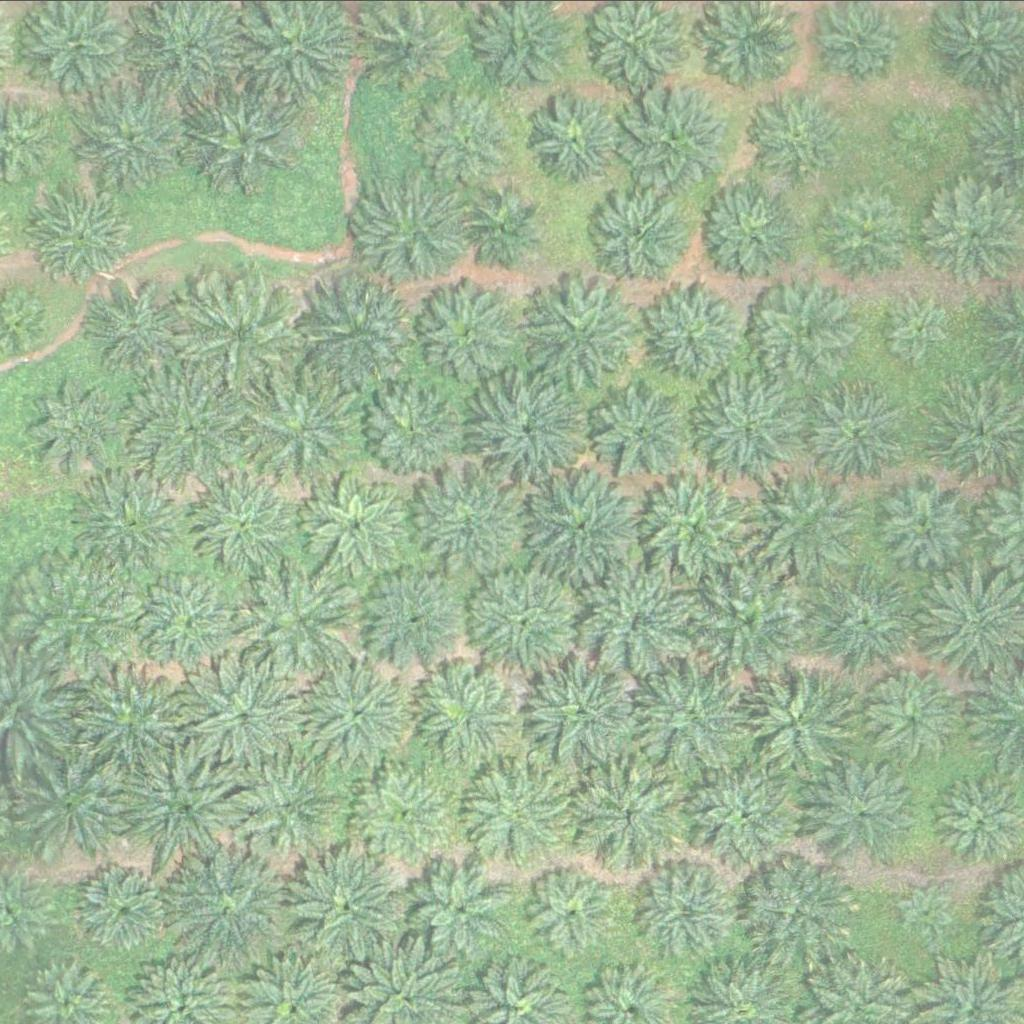Kelapa_Sawit: (20, 560, 134, 673), (183, 279, 297, 392), (357, 175, 471, 288), (617, 85, 731, 198), (811, 754, 925, 867), (174, 847, 287, 960), (292, 849, 405, 962), (464, 753, 577, 866), (573, 761, 686, 874), (74, 668, 187, 781), (136, 565, 249, 678), (243, 561, 356, 674), (357, 564, 470, 677), (411, 461, 524, 574), (521, 469, 634, 582), (696, 368, 809, 481), (642, 467, 755, 580), (641, 656, 754, 769), (740, 665, 853, 778), (692, 756, 805, 869), (68, 471, 182, 583), (183, 467, 297, 579), (135, 372, 249, 484), (243, 375, 357, 487), (296, 275, 410, 387), (411, 278, 525, 390), (746, 855, 860, 967), (23, 370, 136, 482), (17, 746, 130, 858), (132, 751, 245, 863), (234, 749, 347, 861), (193, 660, 306, 772), (304, 659, 417, 771), (528, 654, 641, 766), (471, 566, 584, 678), (583, 565, 696, 677), (464, 374, 577, 486), (529, 276, 642, 388), (188, 82, 301, 194), (753, 466, 866, 578), (693, 563, 806, 675), (805, 567, 918, 679), (85, 88, 186, 188), (30, 186, 131, 286), (409, 861, 510, 961), (355, 765, 456, 865), (415, 665, 516, 765), (302, 475, 403, 575), (593, 380, 694, 480), (89, 280, 190, 380), (747, 81, 848, 181), (696, 183, 797, 283), (815, 179, 916, 279), (641, 283, 742, 383), (753, 282, 854, 382), (802, 382, 903, 482), (879, 472, 980, 572), (638, 858, 738, 958), (359, 379, 459, 479), (592, 190, 692, 290), (415, 88, 515, 188), (527, 91, 627, 191), (861, 668, 961, 768), (82, 862, 170, 950), (528, 865, 616, 952), (461, 192, 537, 267), (885, 294, 960, 369), (889, 110, 952, 172), (894, 881, 957, 943)
